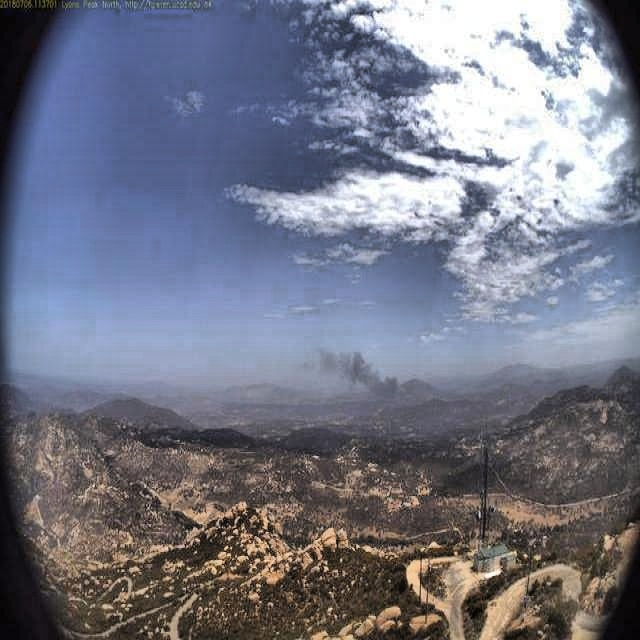smoke: (309, 342, 421, 438)
